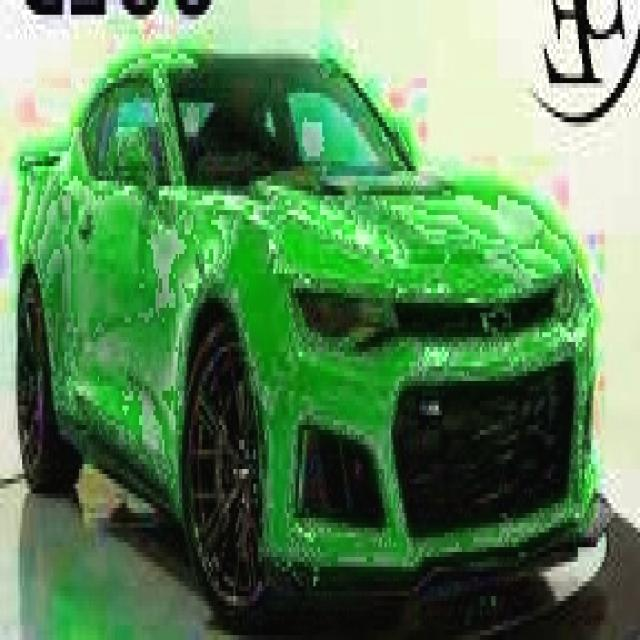green: (16, 56, 608, 623)
